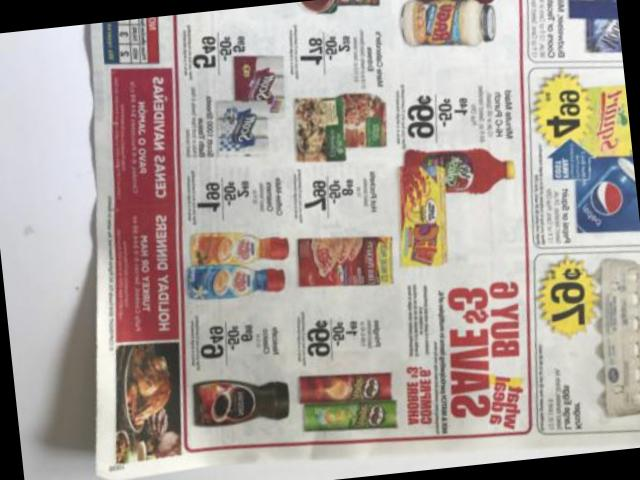cardboard paper: (91, 0, 640, 476)
